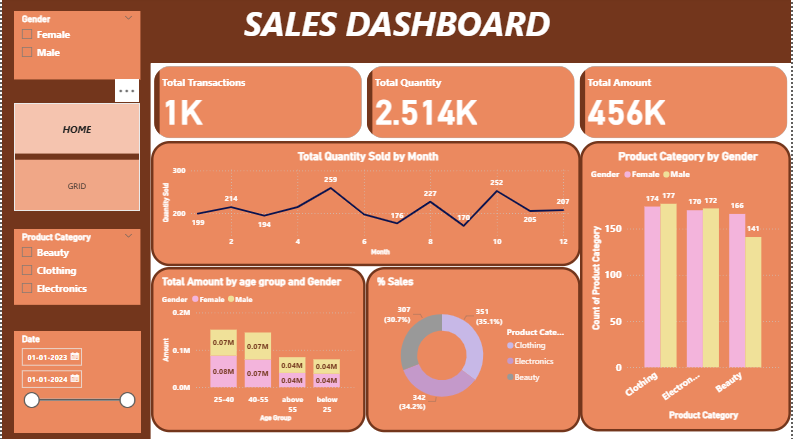

The dashboard page shown, as its layout file describes it:
{"tool":"powerbi","page":{"name":"HOME ","canvas":[1280,720],"ordinal":0},"visuals":[{"type":"shape","box":[0,0,1280,107.5],"z":0},{"type":"shape","box":[0,106.8,241.5,613.2],"z":1000},{"type":"textbox","box":[0,0,1280.5,82],"z":2000},{"type":"cardVisual","fields":{"Data":["CountNonNull(retail_sales_dataset.Transaction ID)","Sum(retail_sales_dataset.Quantity)","Sum(retail_sales_dataset.Total Amount)"]},"box":[241.5,106.8,1039,127.3],"z":3000},{"type":"lineChart","title":"Total Quantity Sold by Month","fields":{"Y":["Sum(retail_sales_dataset.Quantity)"],"Category":["retail_sales_dataset.month no"]},"box":[241.5,234.1,696.6,203.4],"z":4000},{"type":"columnChart","title":"Total Amount by age group and Gender","fields":{"Category":["retail_sales_dataset.age group"],"Y":["Sum(retail_sales_dataset.Total Amount)"],"Series":["retail_sales_dataset.Gender"]},"box":[241.5,437.6,348.3,267.8],"z":5000},{"type":"donutChart","title":"% Sales","fields":{"Y":["CountNonNull(retail_sales_dataset.Product Category)"],"Category":["retail_sales_dataset.Product Category"]},"box":[589.8,437.6,348.3,267.8],"z":6000},{"type":"clusteredColumnChart","title":" Product Category by Gender","fields":{"Category":["retail_sales_dataset.Product Category"],"Series":["retail_sales_dataset.Gender"],"Y":["CountNonNull(retail_sales_dataset.Product Category)"]},"box":[938,234.1,342.4,471.2],"z":7000},{"type":"slicer","fields":{"Values":["retail_sales_dataset.Gender"]},"box":[19,23.4,204.9,111.2],"z":8000},{"type":"slicer","fields":{"Values":["retail_sales_dataset.Date"]},"box":[19,541.5,204.9,163.9],"z":9000},{"type":"slicer","fields":{"Values":["retail_sales_dataset.Product Category"]},"box":[19,376.1,204.9,122.9],"z":10000},{"type":"pageNavigator","box":[19,171.2,204.9,175.6],"z":11001}]}

Visuals, with their boxes in screenshot pixels (x1, y1, x2, y2), scaled from the page's 1280x720 canvas onto the 793x439 screenshot:
shape: {"x1": 0, "y1": 0, "x2": 792, "y2": 66}
shape: {"x1": 0, "y1": 65, "x2": 150, "y2": 438}
textbox: {"x1": 0, "y1": 0, "x2": 792, "y2": 50}
cardVisual - CountNonNull(retail_sales_dataset.Transaction ID) x Sum(retail_sales_dataset.Quantity): {"x1": 150, "y1": 65, "x2": 792, "y2": 143}
"Total Quantity Sold by Month" lineChart: {"x1": 150, "y1": 143, "x2": 581, "y2": 267}
"Total Amount by age group and Gender" columnChart: {"x1": 150, "y1": 267, "x2": 365, "y2": 430}
"% Sales" donutChart: {"x1": 365, "y1": 267, "x2": 581, "y2": 430}
" Product Category by Gender" clusteredColumnChart: {"x1": 581, "y1": 143, "x2": 792, "y2": 430}
slicer - retail_sales_dataset.Gender: {"x1": 12, "y1": 14, "x2": 139, "y2": 82}
slicer - retail_sales_dataset.Date: {"x1": 12, "y1": 330, "x2": 139, "y2": 430}
slicer - retail_sales_dataset.Product Category: {"x1": 12, "y1": 229, "x2": 139, "y2": 304}
pageNavigator: {"x1": 12, "y1": 104, "x2": 139, "y2": 211}
